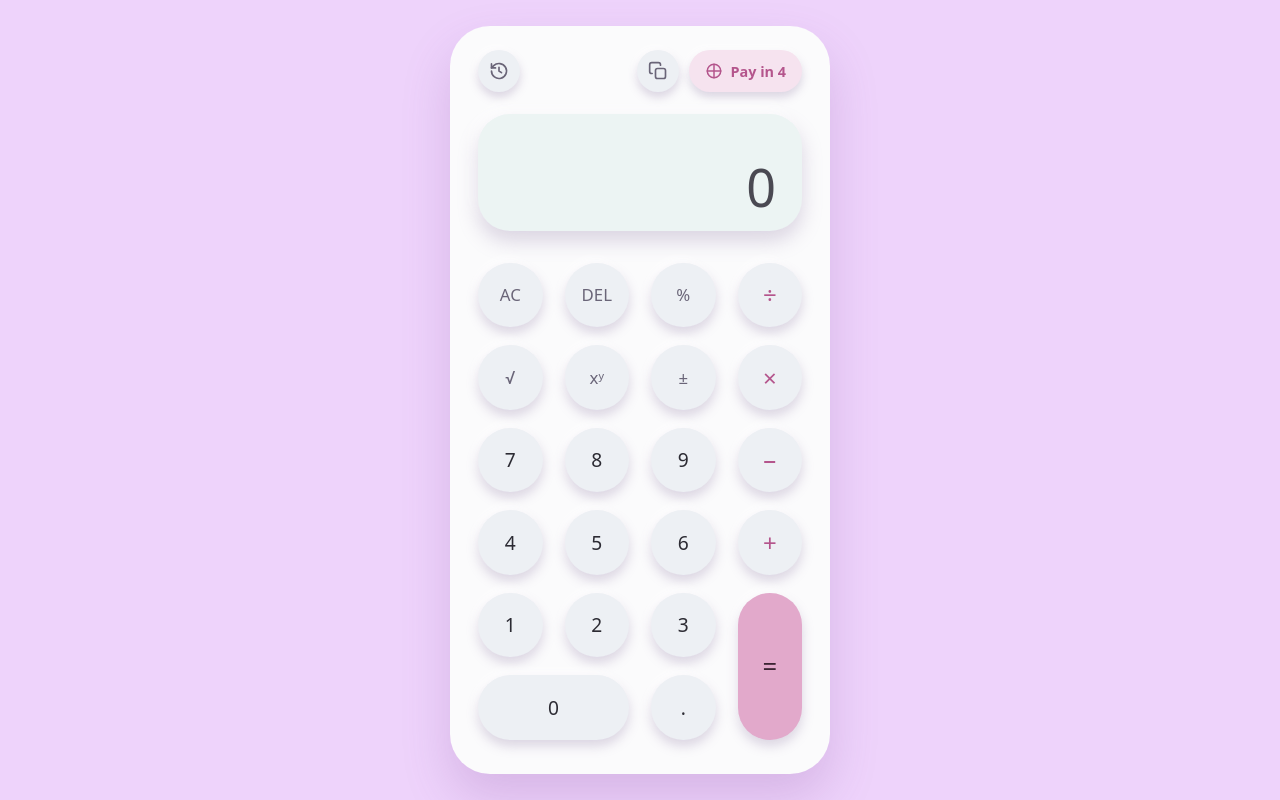
Test case: History › does not record failed calculations
Click the button "8". click: [597, 460]
box: [564,428,629,492]
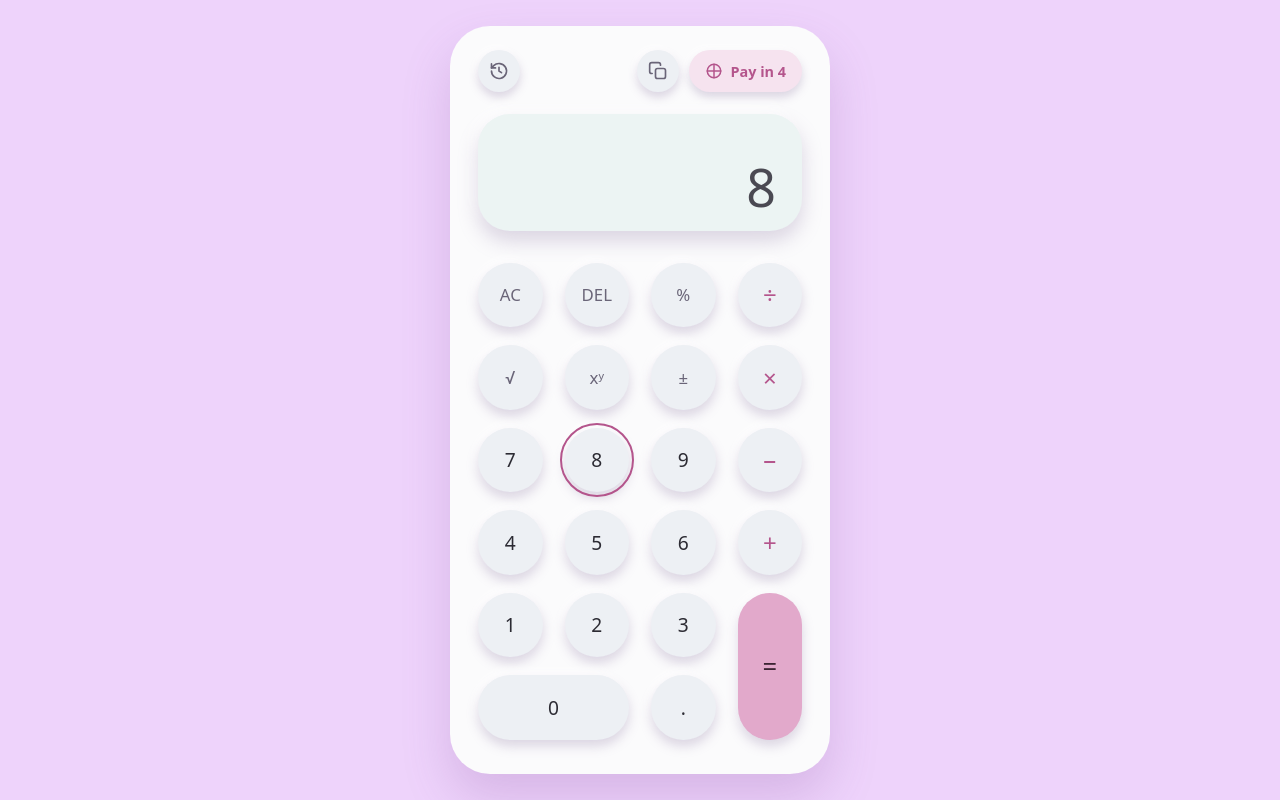
Click the button named "Divide". click: [770, 295]
box: [738,263,802,327]
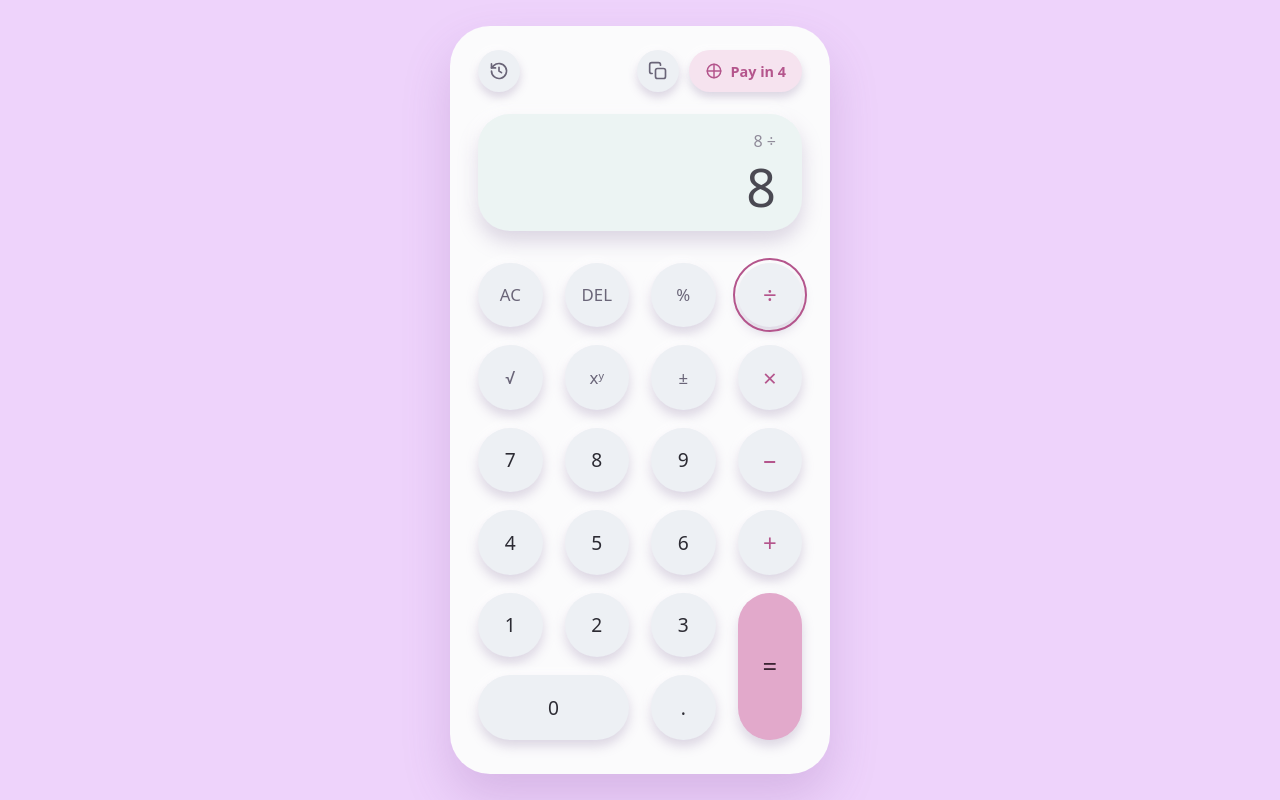
Click the button "0". click: [554, 707]
box: [478,675,629,740]
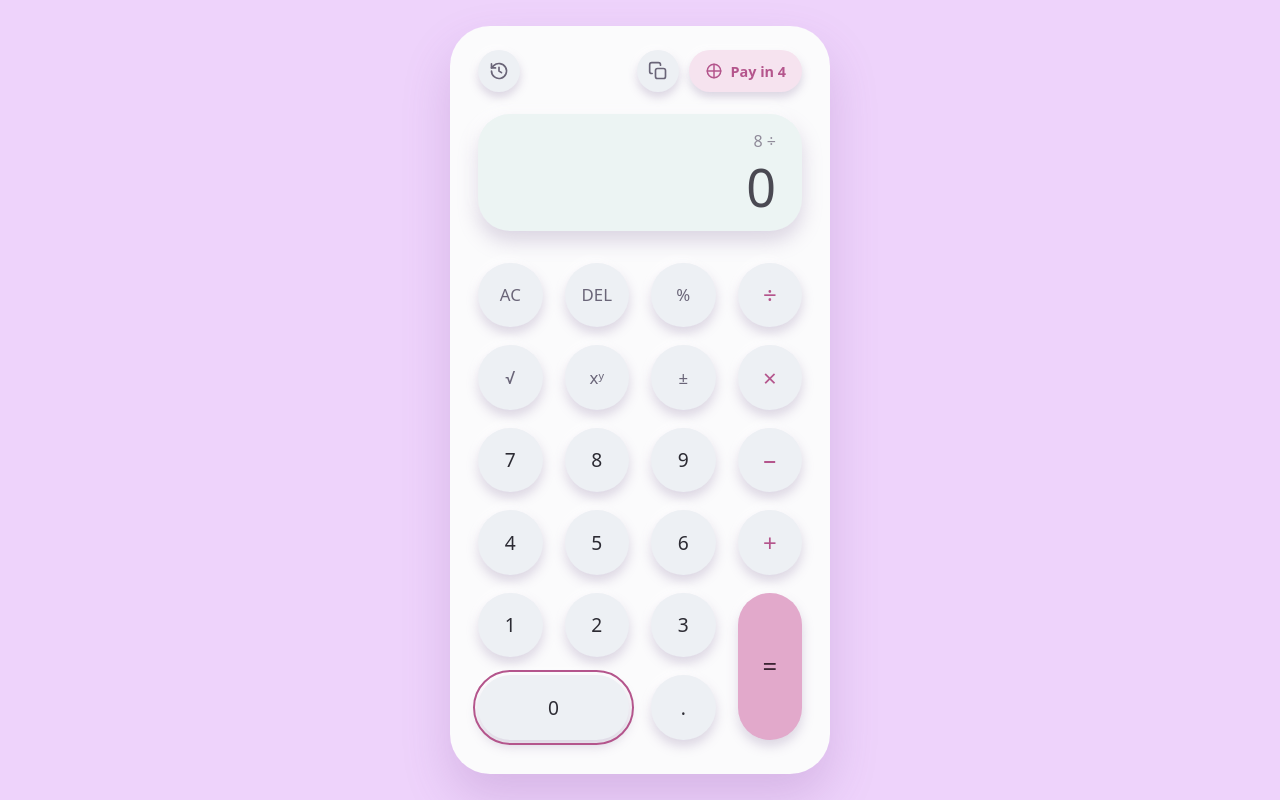
Click the button named "Equals". click: [770, 666]
box: [738,593,802,740]
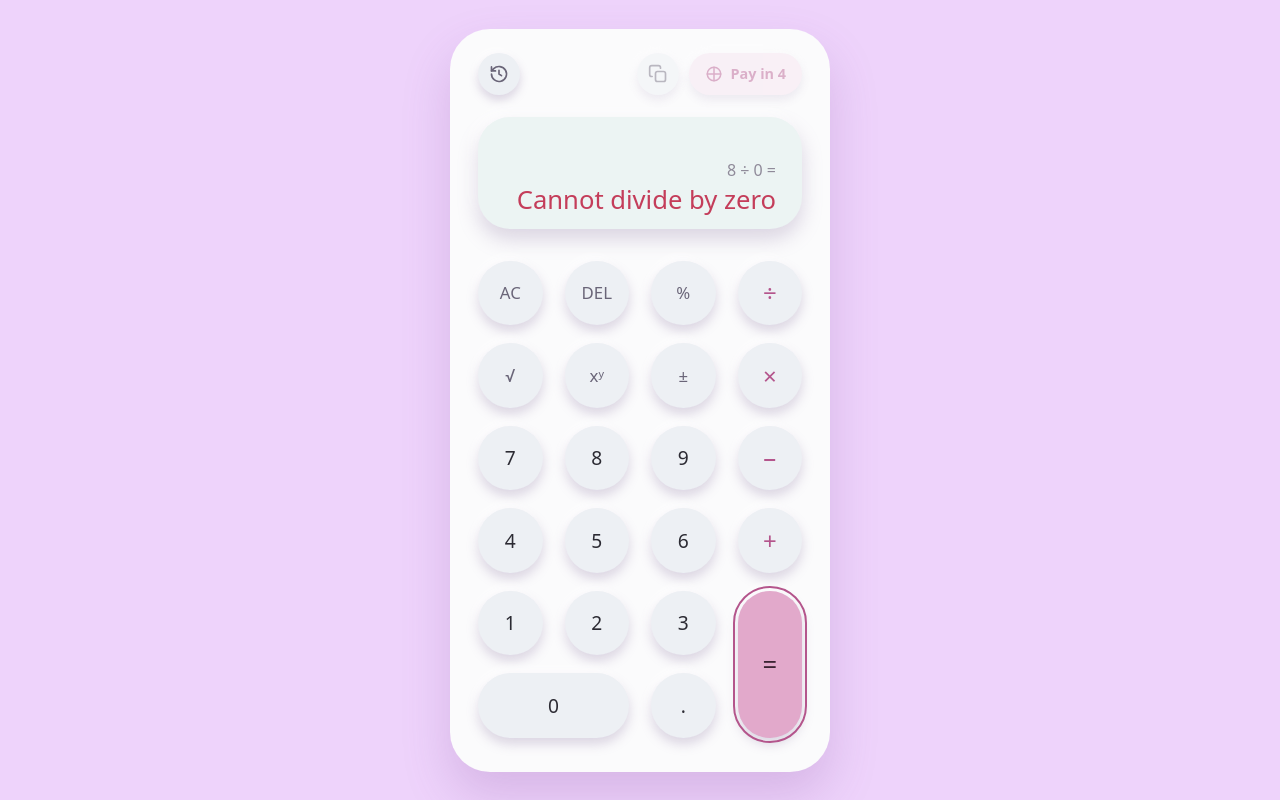
Expected: the text with test id "display-value" reads "Cannot divide by zero", [517,182,776,217]
Click the button named "History". click: [499, 74]
box: [478,52,520,94]
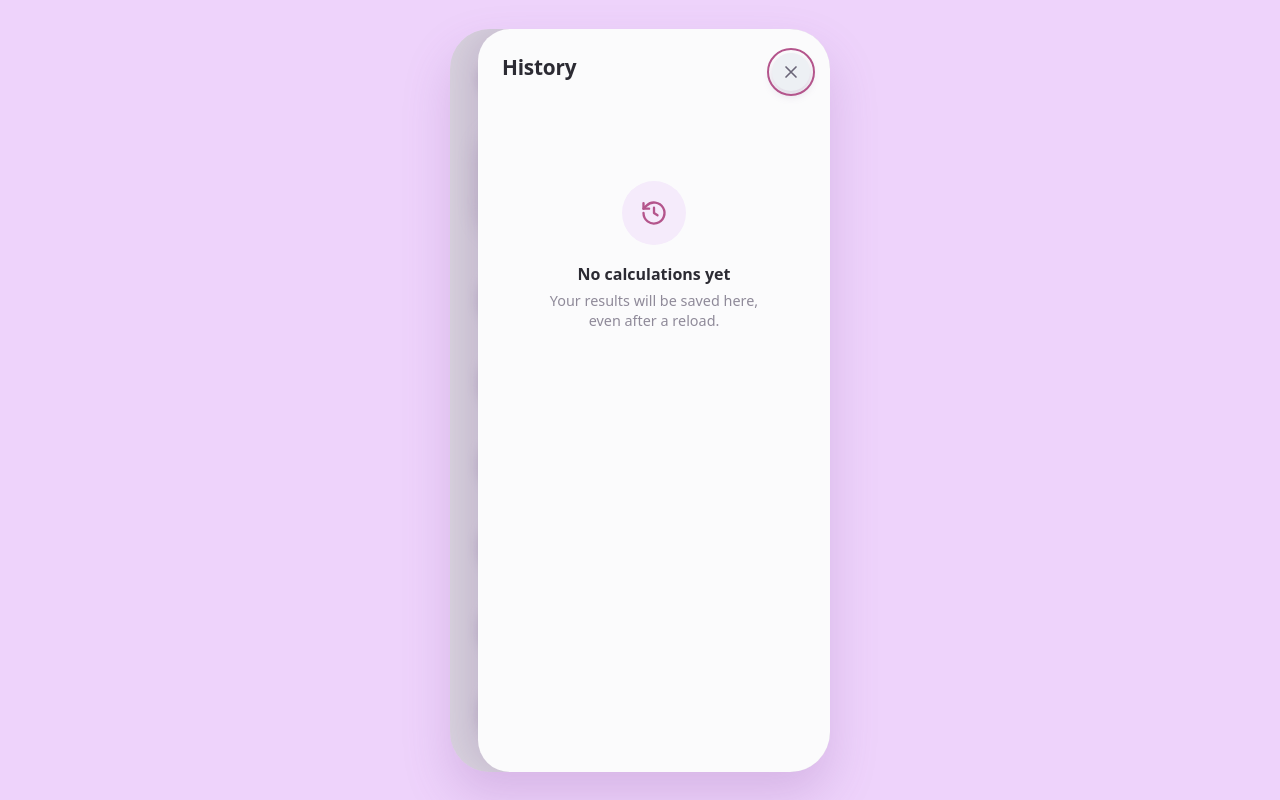
Expected: the text "No calculations yet" is shown, [578,262,730,284]
